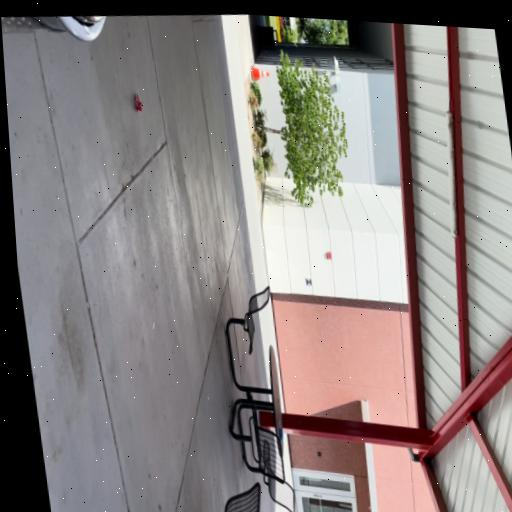target9: (306, 277, 312, 287)
